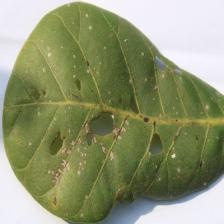red rust: (2, 0, 224, 223)
